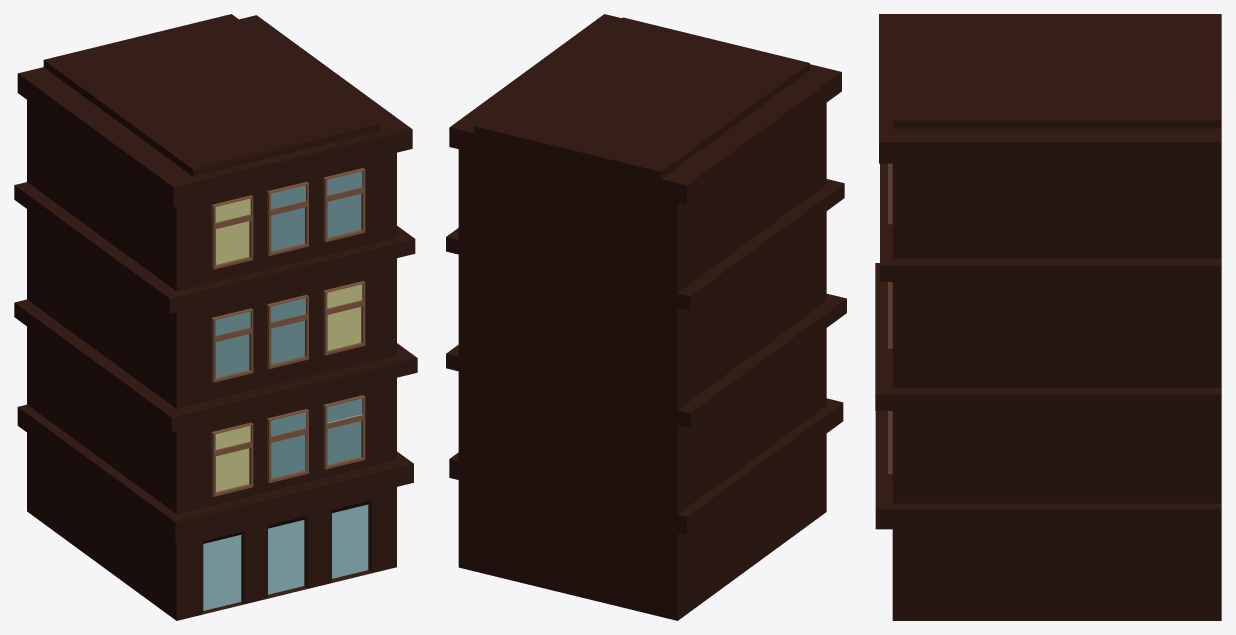
Rendered from edificio bueno1.fbx.
3 views of the same model, side by side, from view 1: azimuth 30°, elevation 25°; view 2: azimuth 150°, elevation 25°; view 3: azimuth 270°, elevation 25° (orthographic). The views are drawn at different scales.
Visible parts, largest first — view 1: polySurface8; view 2: polySurface8; view 3: polySurface8.
Part boxes in pixels (x1,y1,x2,y2): polySurface8: (14, 14, 417, 620); polySurface8: (446, 14, 846, 620); polySurface8: (875, 14, 1221, 620).
Bounding box in the file's own units: 730 × 1272 × 812.
